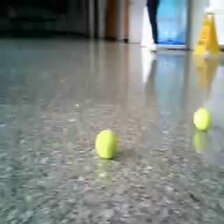tennis: (95, 130, 119, 159), (193, 108, 213, 131)
